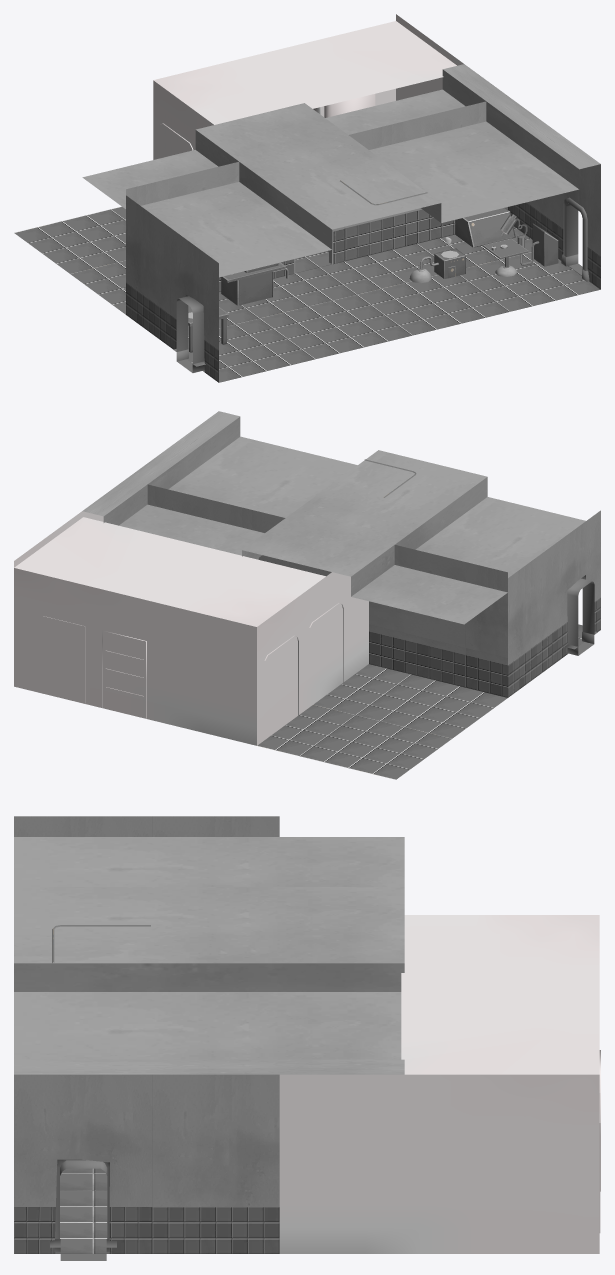
Rendered from MSH_Science_Lab_room_L1_R2_optimized.fbx.
3 renders of one model, top to bottom at view 1: azimuth 30°, elevation 25°; view 2: azimuth 150°, elevation 25°; view 3: azimuth 270°, elevation 25°, orthographic. The views are drawn at different scales.
Parts seen in each view (by area): view 1: lightmap1, lightmap0, lightmap-1; view 2: lightmap1, lightmap-1, lightmap0; view 3: lightmap1, lightmap-1, lightmap0.
Boxes of the visible parts, <box> form: lightmap1: <box>14,14,600,382</box>; lightmap0: <box>162,94,558,352</box>; lightmap-1: <box>176,203,582,372</box>; lightmap1: <box>14,411,600,779</box>; lightmap-1: <box>567,578,594,655</box>; lightmap0: <box>43,459,416,718</box>; lightmap1: <box>14,816,599,1253</box>; lightmap-1: <box>60,1160,107,1260</box>; lightmap0: <box>52,925,600,1232</box>.
Bounding box in the file's own units: 20.61 × 6.28 × 18.24.
Materials: 6 (6 with a texture image).
